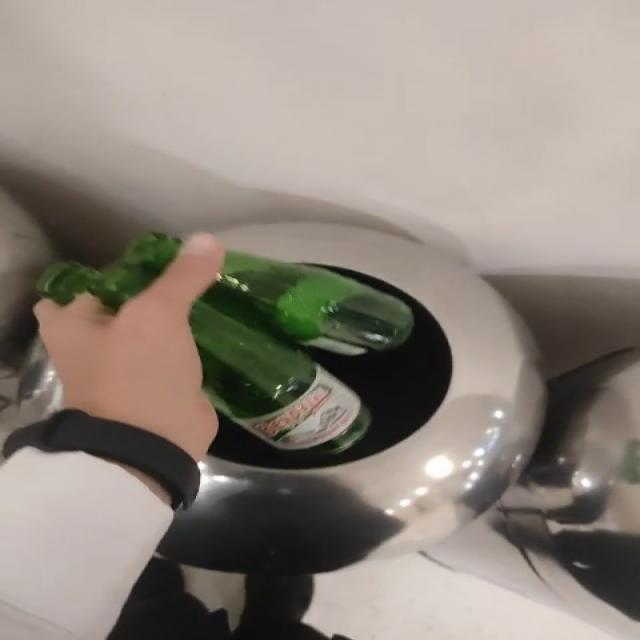glass: (189, 251, 413, 454), (189, 251, 415, 428), (37, 234, 179, 310), (37, 234, 179, 309)
